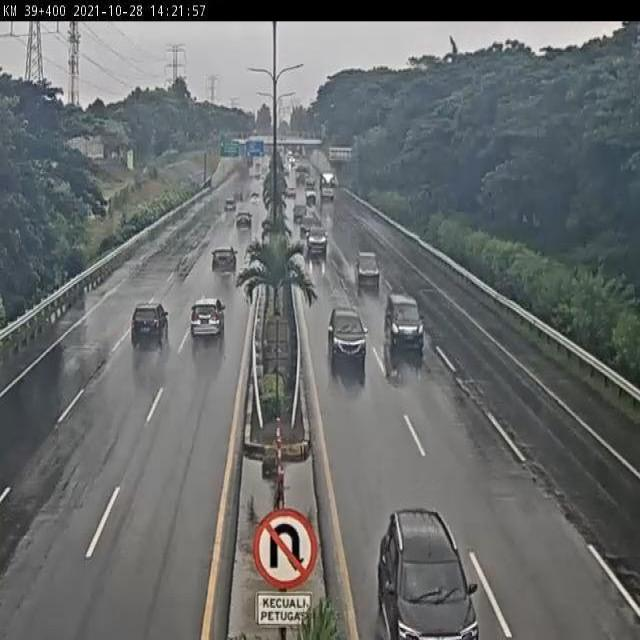car: (371, 485, 471, 640), (384, 289, 427, 351), (324, 305, 366, 363), (129, 302, 170, 354), (190, 297, 229, 344), (355, 248, 382, 285), (209, 243, 237, 276), (305, 223, 329, 252), (234, 209, 255, 232), (292, 201, 309, 224)
